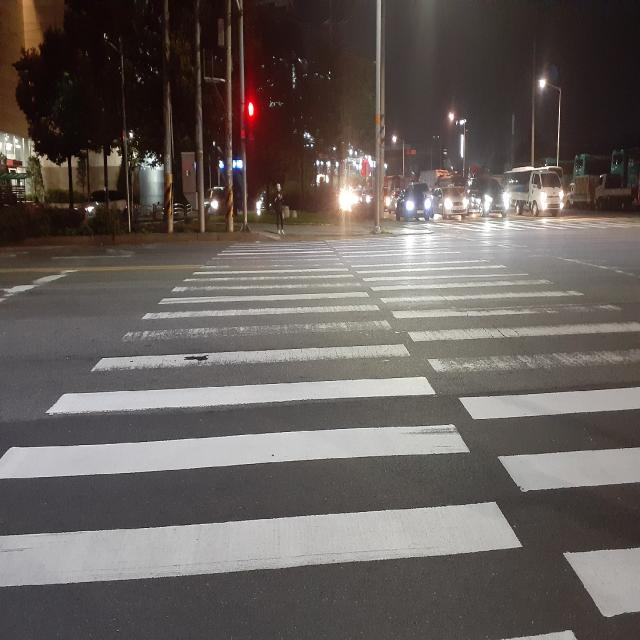빨간불: (247, 102, 254, 143)
횡단보도: (0, 235, 640, 639)
